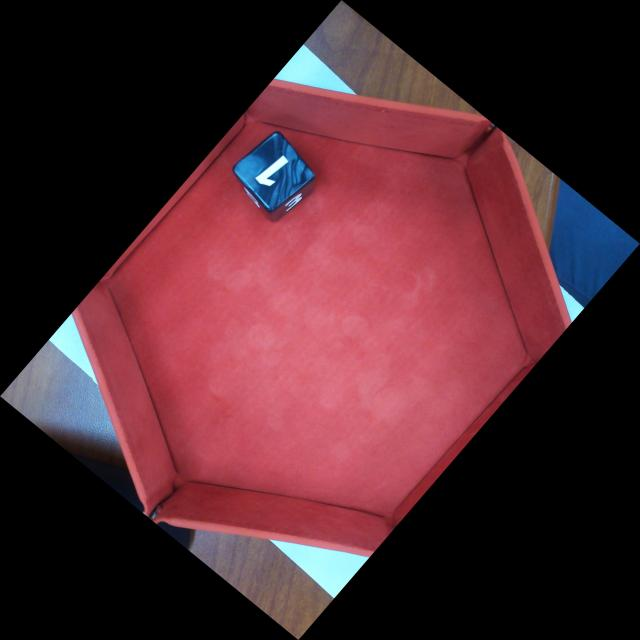dice: (231, 127, 319, 217)
